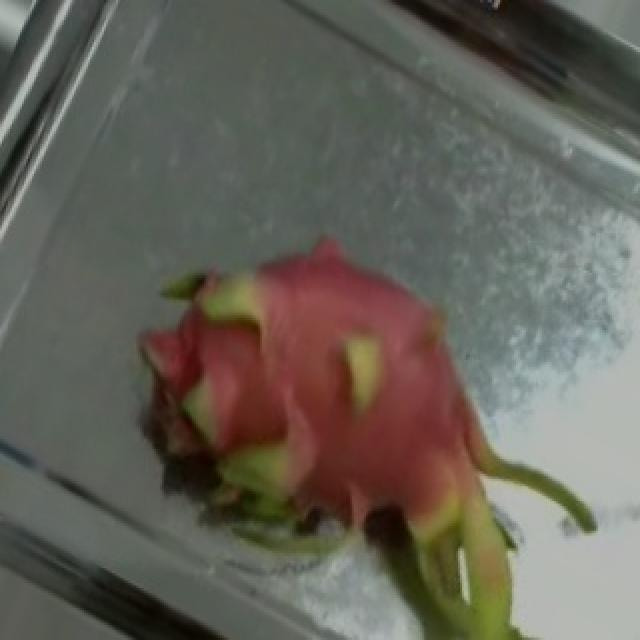fruit: (216, 203, 634, 635)
